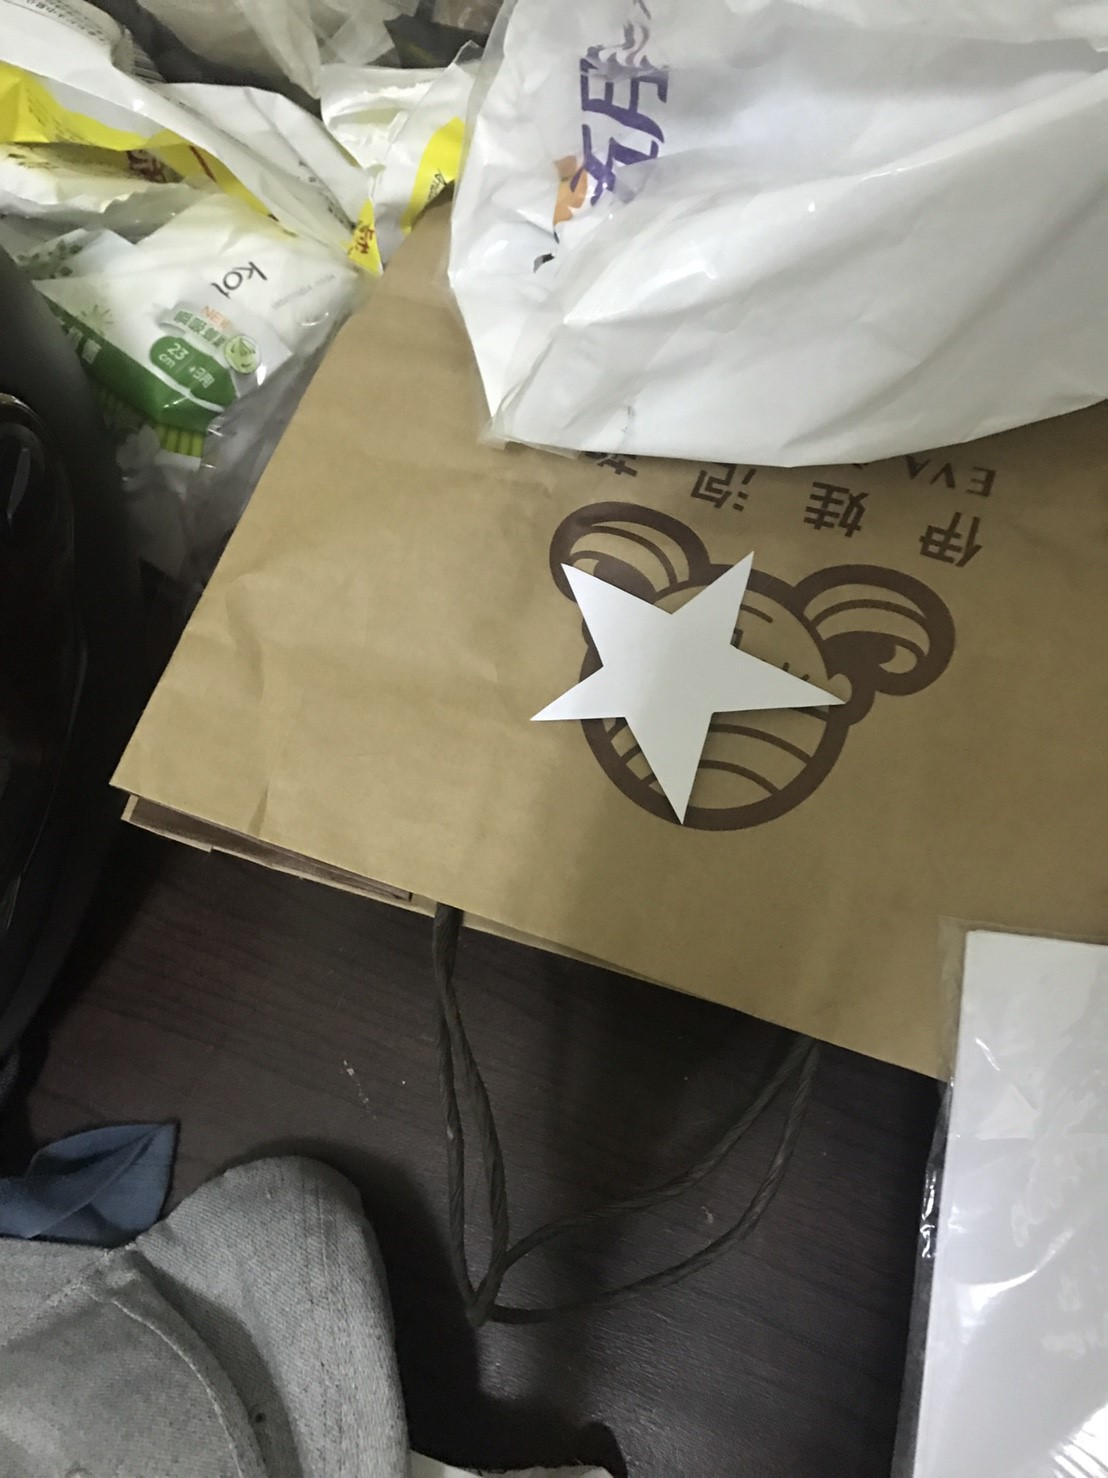star: (524, 545, 869, 850)
